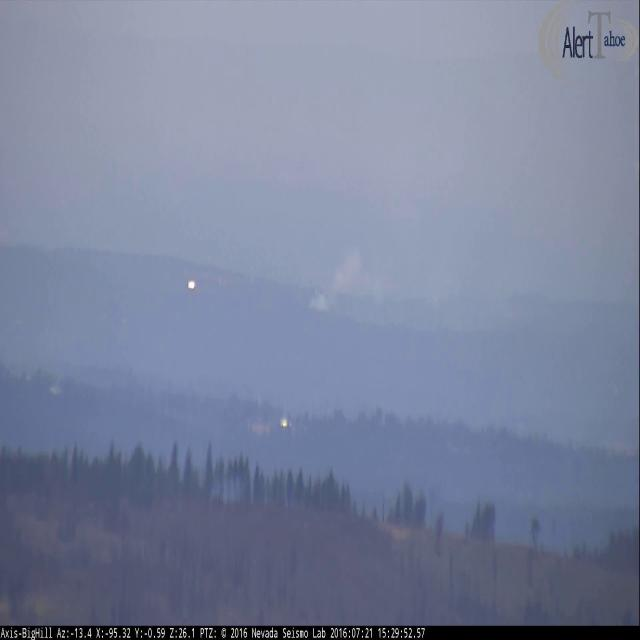smoke: (310, 199, 532, 333)
